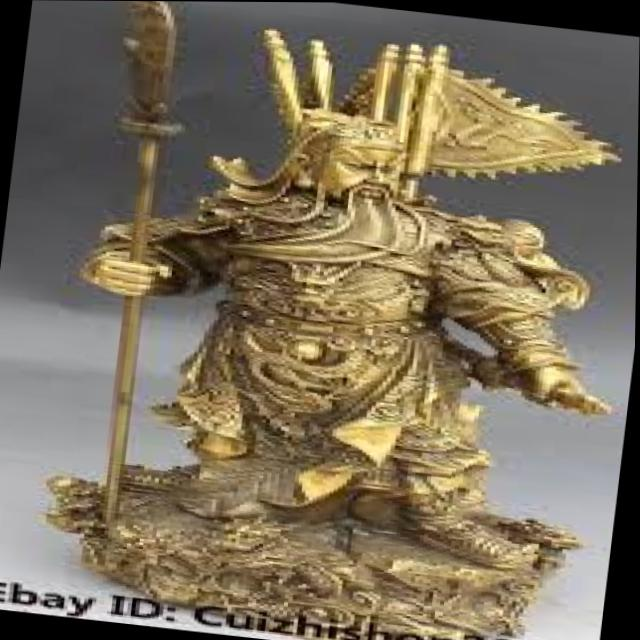Guan Yu: (143, 23, 592, 467)
